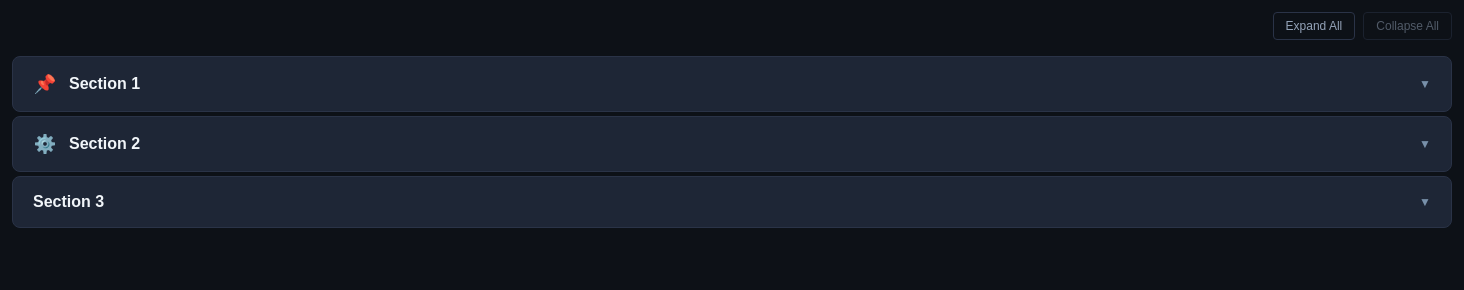
it: SettingsAccordion › expand/collapse behavior › expands section when header is clicked
The image size is (1464, 290).
Click the button "📌 Section 1 ▼".
click(105, 84)  # box [13,57,1451,111]
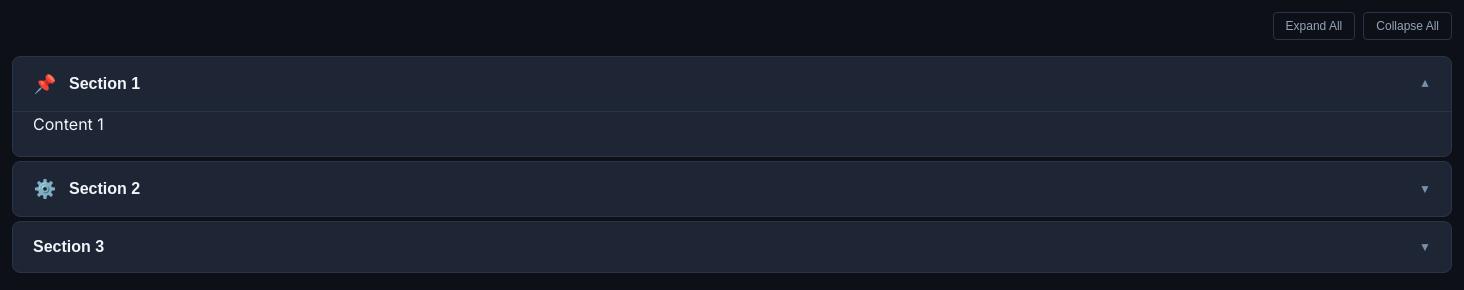
Expected: the text "Content 1" is shown, [33,114,104,134]
